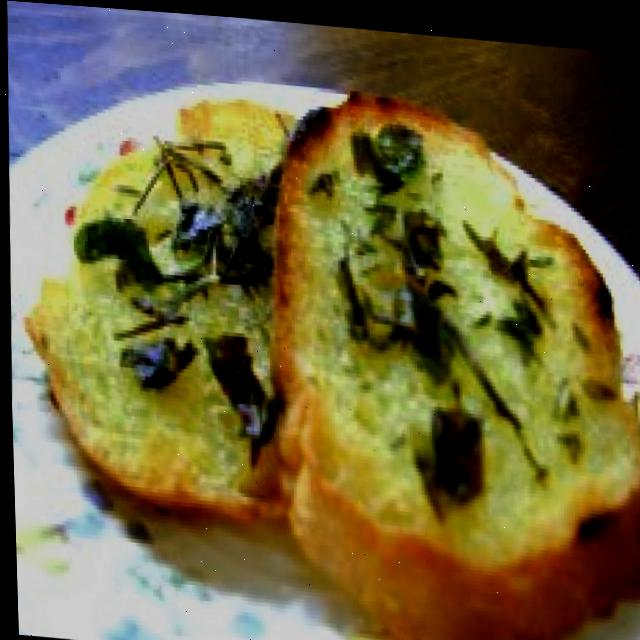面包点心: (27, 74, 640, 640)
